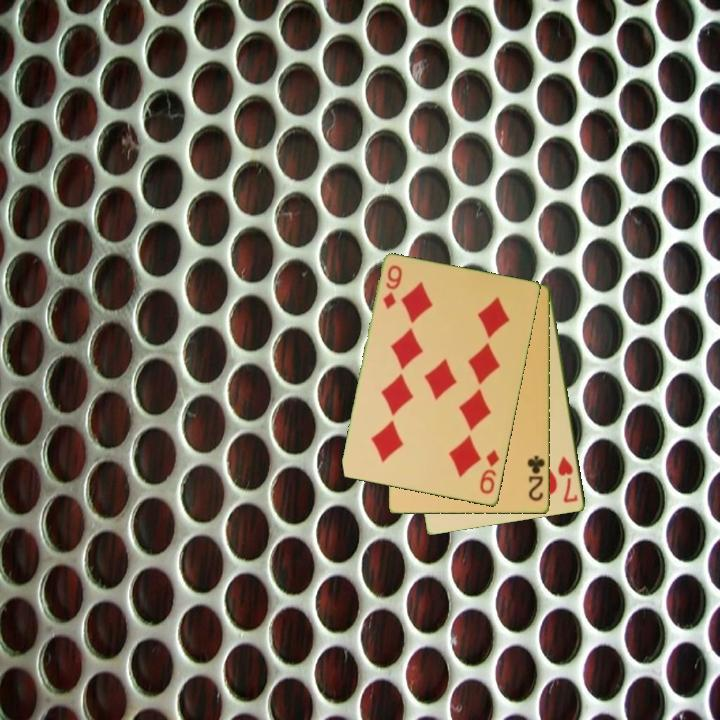2c: (524, 453, 548, 504)
7h: (555, 453, 581, 506)
9d: (476, 447, 503, 497), (379, 262, 405, 312)
